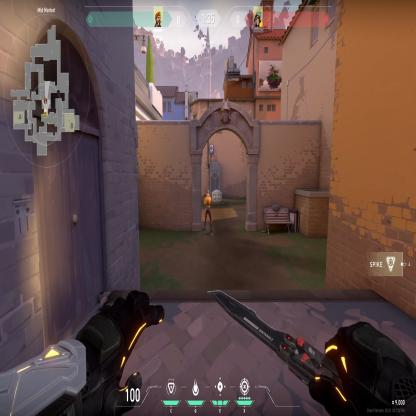enemy: (203, 189, 213, 235)
